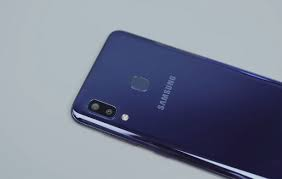samsung: (67, 25, 282, 179)
